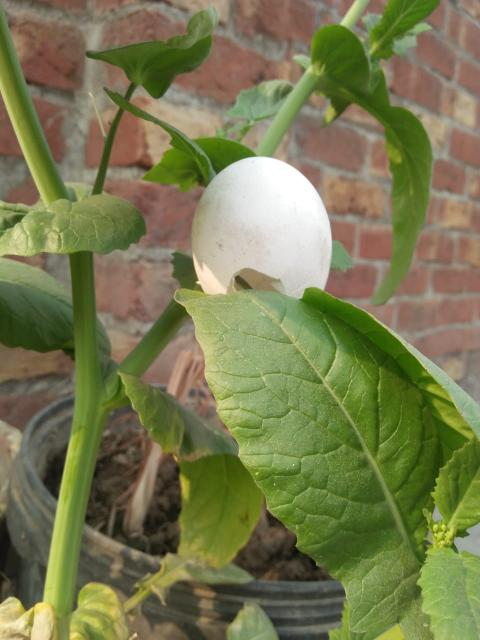Roto: (190, 154, 332, 300)
